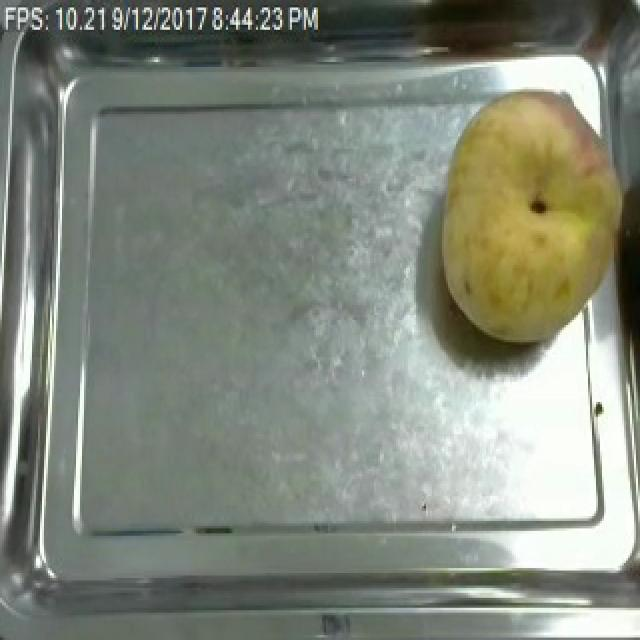Fruit: (428, 82, 638, 352)
